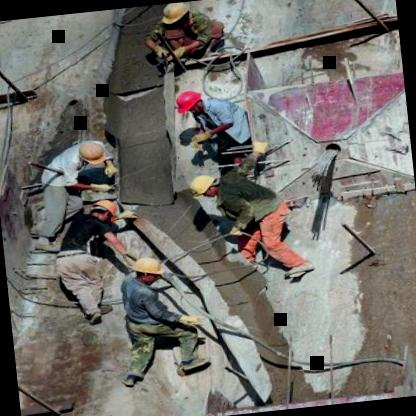helmet: (181, 170, 226, 202), (158, 1, 194, 35), (129, 254, 165, 286), (173, 86, 206, 118), (86, 195, 122, 224), (72, 140, 110, 166)
